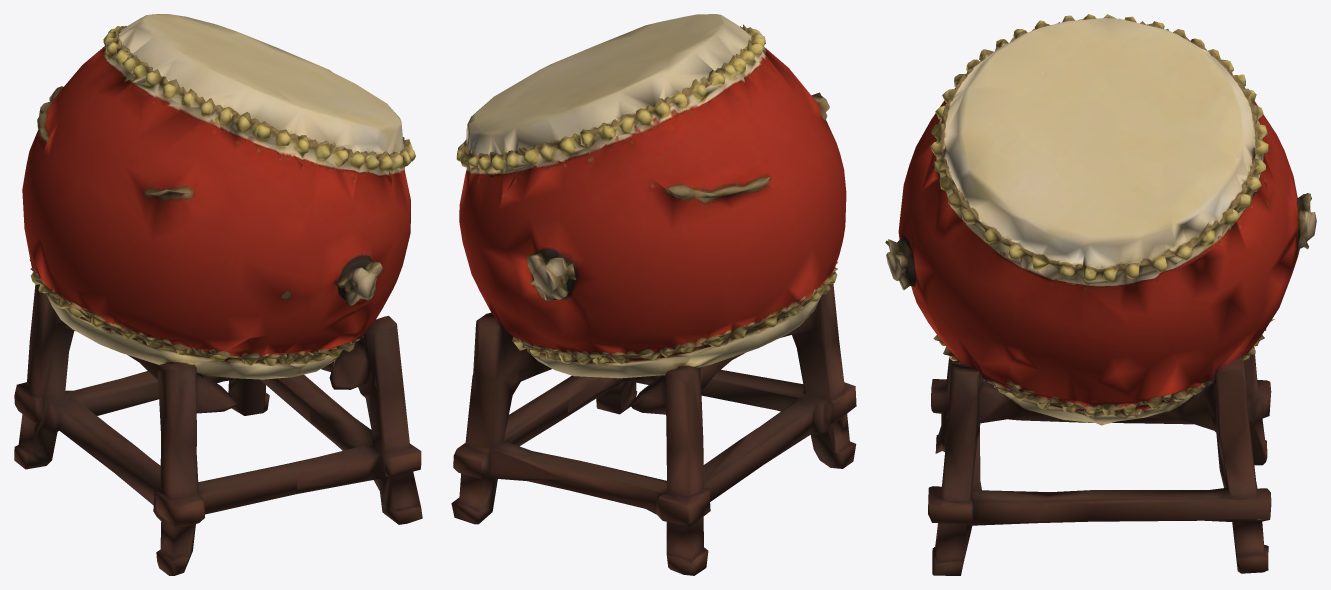
File: taiko.glb
3 views of the same model, side by side, from view 1: azimuth 30°, elevation 25°; view 2: azimuth 150°, elevation 25°; view 3: azimuth 270°, elevation 25° (orthographic). The views are drawn at different scales.
Parts seen in each view (by area): view 1: tripo_node_542712f4-f753-4125-8037-01be531002b9; view 2: tripo_node_542712f4-f753-4125-8037-01be531002b9; view 3: tripo_node_542712f4-f753-4125-8037-01be531002b9.
Boxes of the visible parts, x1,y1,x2,y2 form: tripo_node_542712f4-f753-4125-8037-01be531002b9: (14,14,422,575); tripo_node_542712f4-f753-4125-8037-01be531002b9: (451,14,856,575); tripo_node_542712f4-f753-4125-8037-01be531002b9: (885,14,1316,575).
Size of the model in its own units: 0.7804 by 0.9994 by 0.8315.
Materials: 1 (1 with a texture image).
